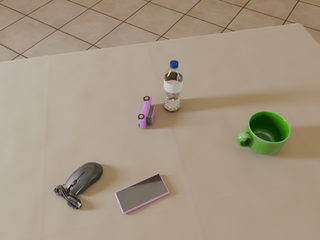bottle: (164, 60, 183, 111)
cup: (236, 111, 290, 155)
mouse: (54, 162, 103, 209)
phone: (115, 174, 169, 214)
toy_car: (138, 96, 155, 129)
